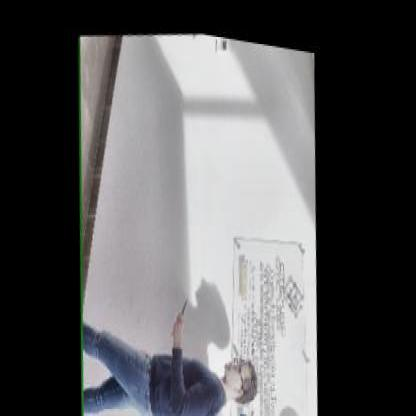knife: (170, 284, 194, 330)
